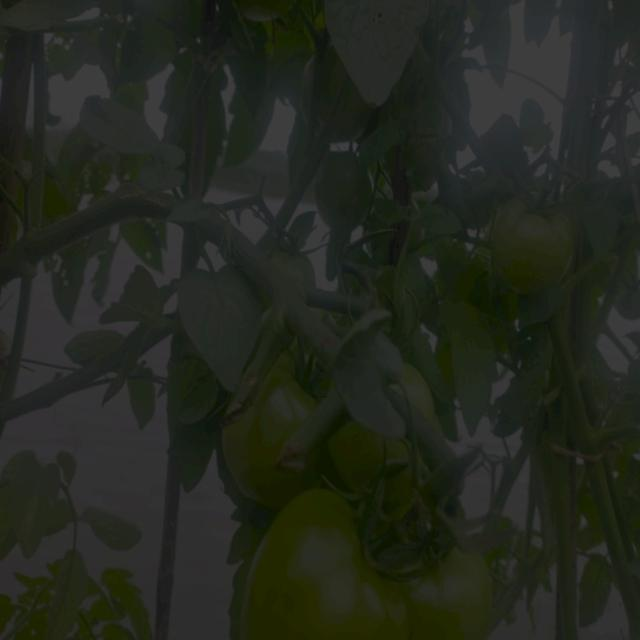tomato: (235, 491, 402, 640), (219, 376, 312, 488), (494, 191, 583, 294), (414, 546, 502, 640), (341, 420, 413, 485)
